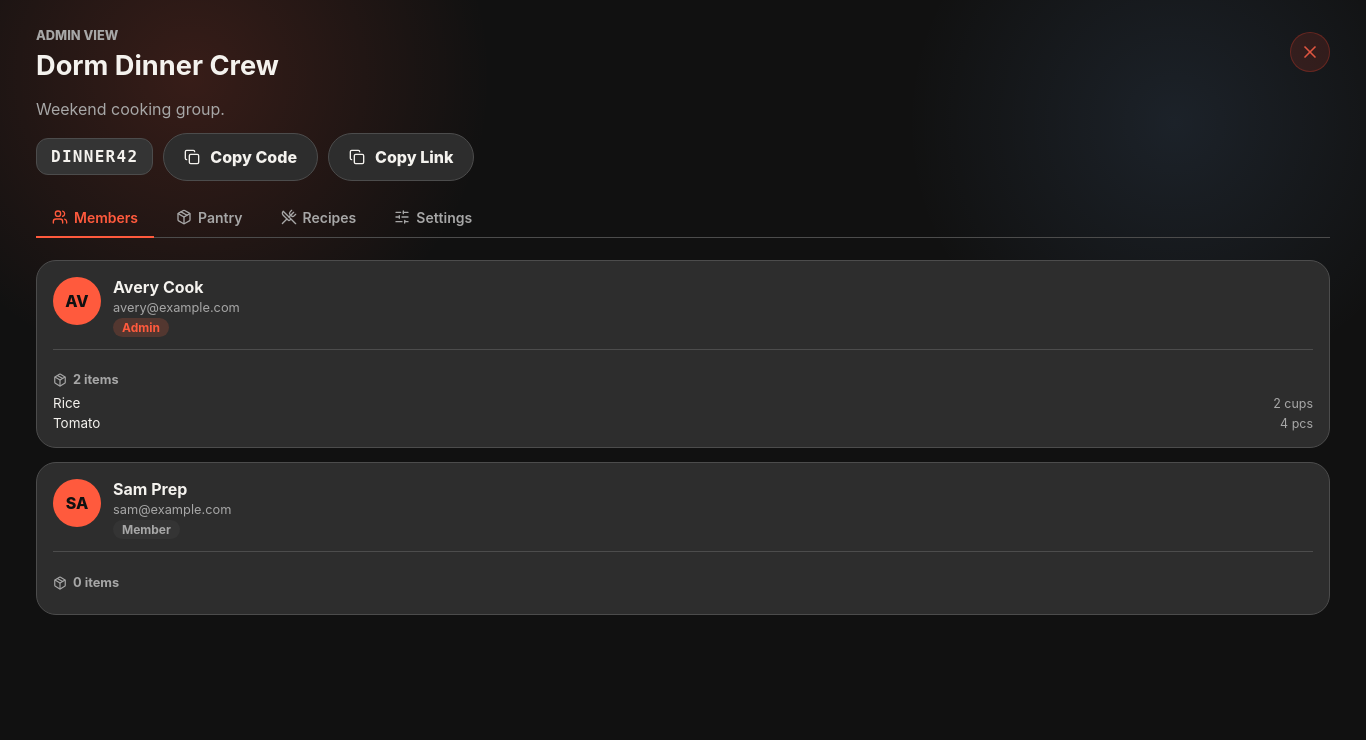
Test: GroupDetailPage › shows the admin settings tab and reflects the current missing-ingredient setting
Click the button "Settings". click: click(433, 218)
box: top-left (378, 198), bottom-right (488, 238)
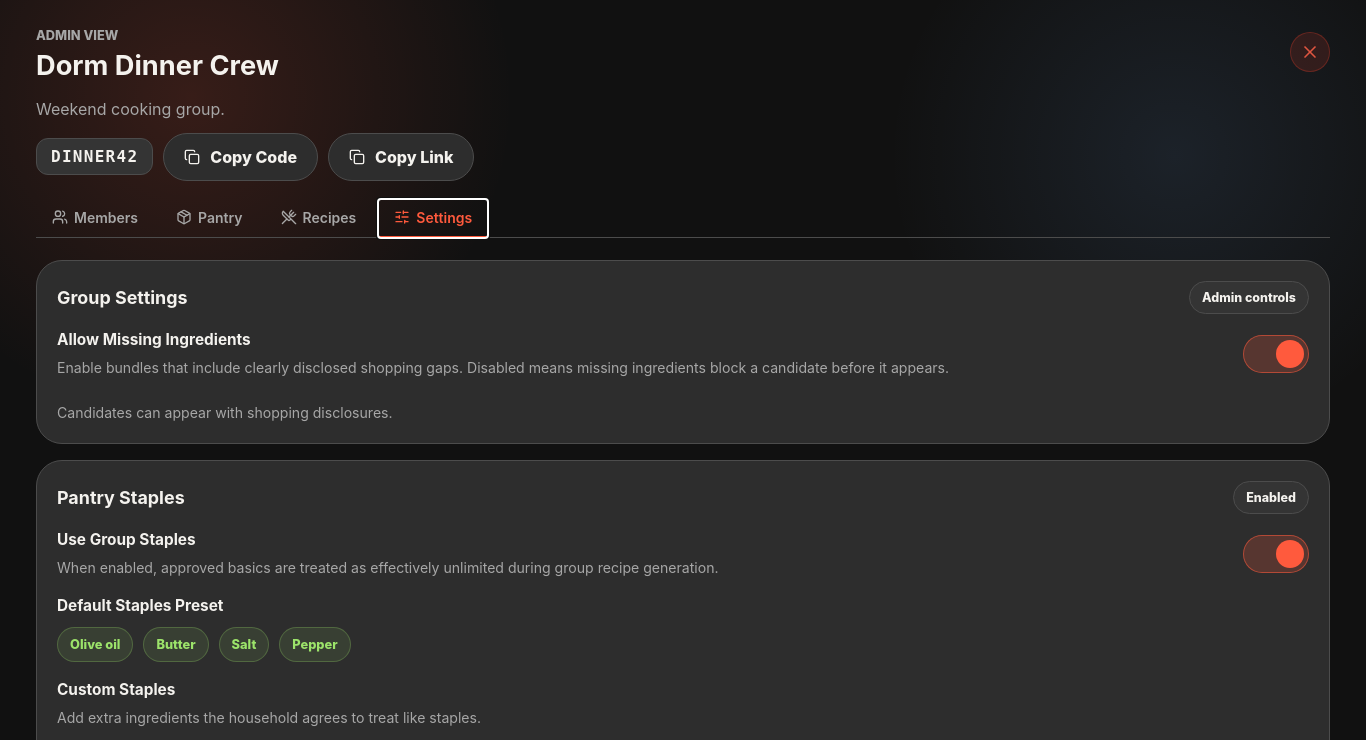
Expected: the checkbox named "Allow Missing Ingredients" is checked, top-left (1243, 335), bottom-right (1309, 373)
